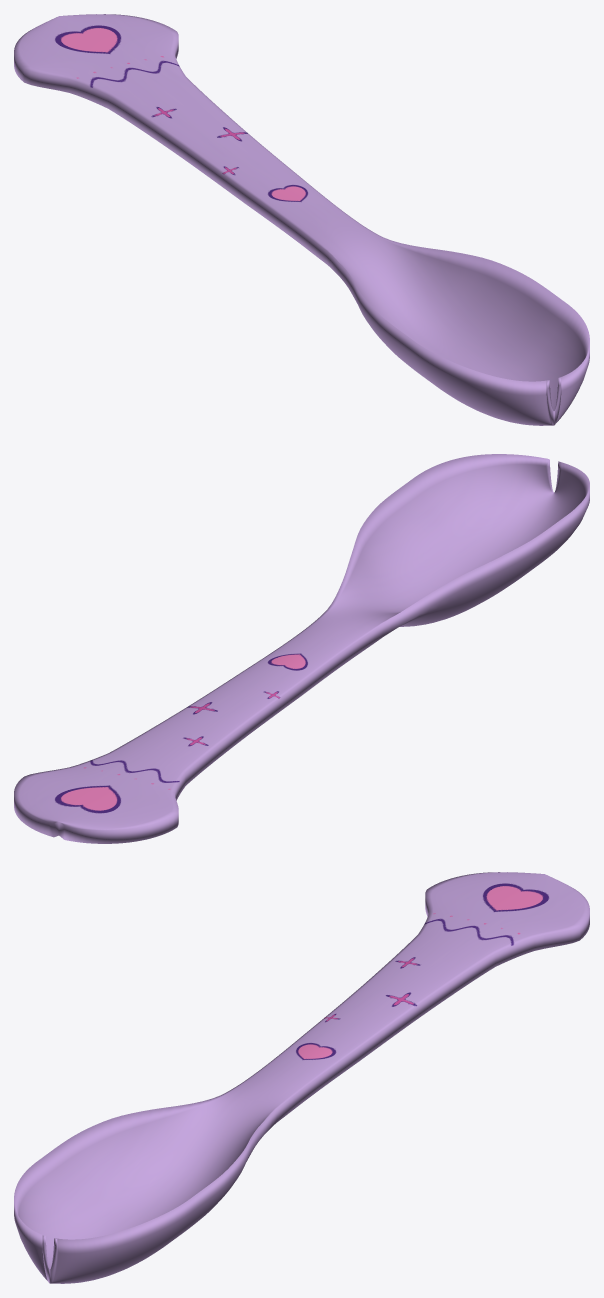
Rendered from LavenderChibiSpoon_140mm.fbx.
3 renders of one model, top to bottom at view 1: azimuth 30°, elevation 25°; view 2: azimuth 150°, elevation 25°; view 3: azimuth 330°, elevation 25°, orthographic.
Visible parts, largest first — view 1: Spoon_Ceramic; view 2: Spoon_Ceramic; view 3: Spoon_Ceramic.
Part boxes in pixels (x1,y1,x2,y2): Spoon_Ceramic: (14, 14, 589, 425); Spoon_Ceramic: (14, 454, 589, 843); Spoon_Ceramic: (14, 872, 589, 1283).
Size of the model in its own units: 0.025 by 0.012 by 0.14.
Materials: 2 (2 with a texture image).
